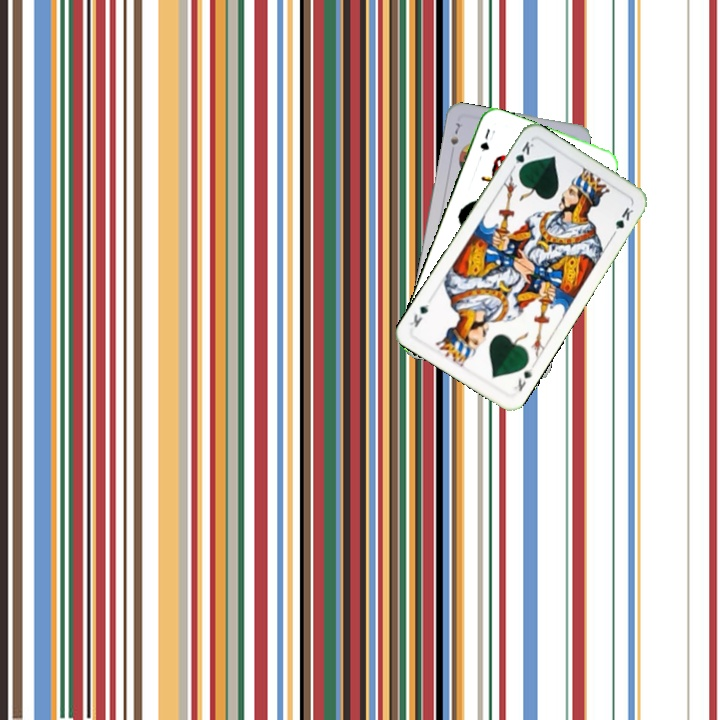GK: (511, 137, 536, 176), (510, 364, 535, 394)
GU: (476, 124, 493, 154)
S7: (446, 119, 463, 147)
